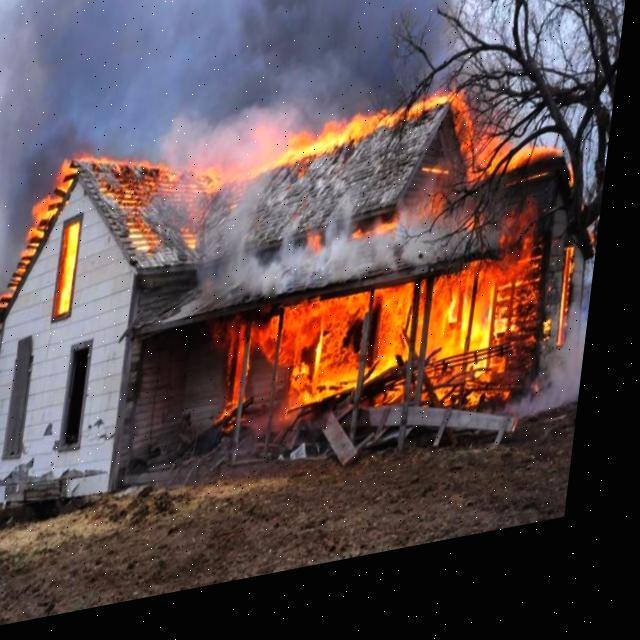Fire: (0, 63, 602, 517)
